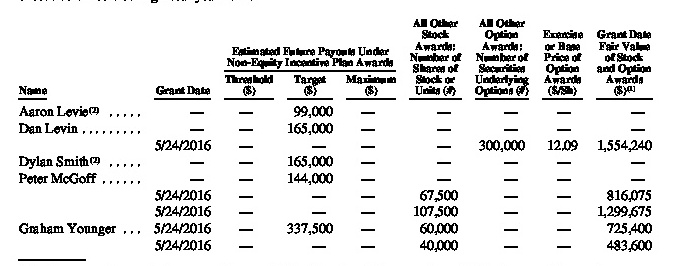table: (0, 0, 679, 266)
